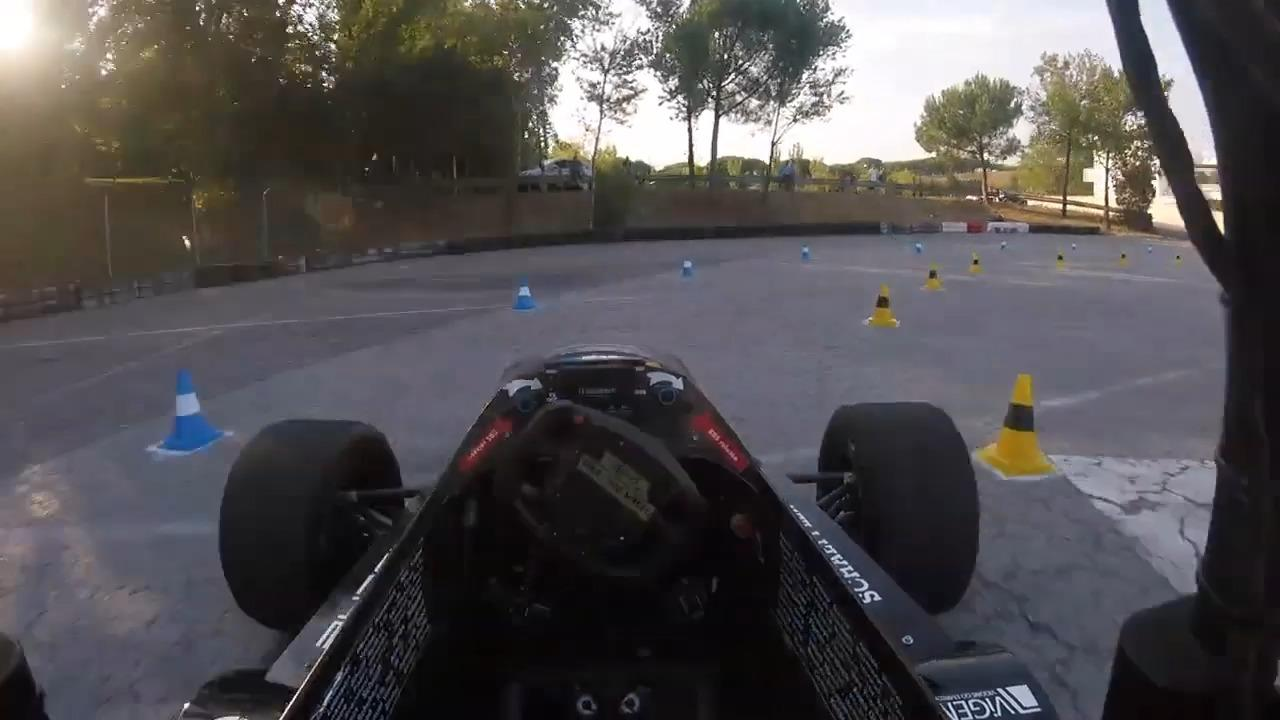blue_cone: (158, 362, 224, 453), (514, 277, 538, 311), (680, 254, 697, 279), (802, 242, 811, 261)
yellow_cone: (984, 371, 1055, 477), (870, 281, 899, 327), (925, 262, 943, 293), (968, 249, 985, 274)
